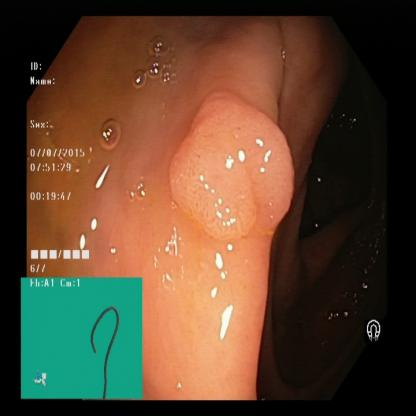Labels: (25, 55, 93, 278), (21, 278, 142, 399)
Polyps: (167, 85, 297, 236)
